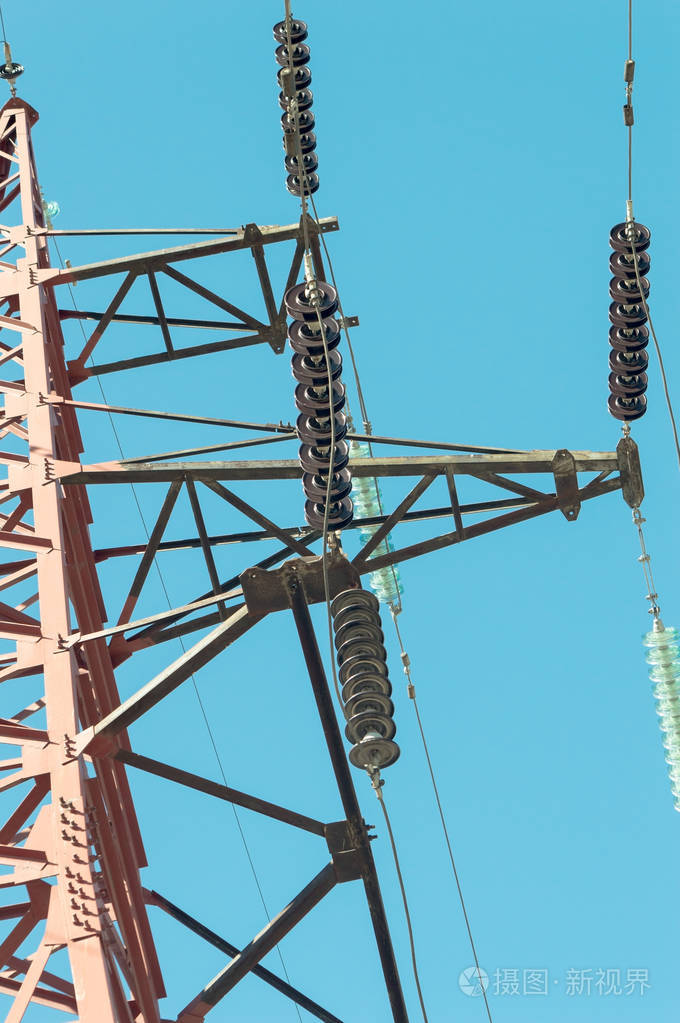insulator: (283, 281, 357, 529), (330, 591, 398, 778), (268, 13, 323, 199), (607, 221, 658, 420), (347, 441, 405, 607), (639, 626, 680, 803)
